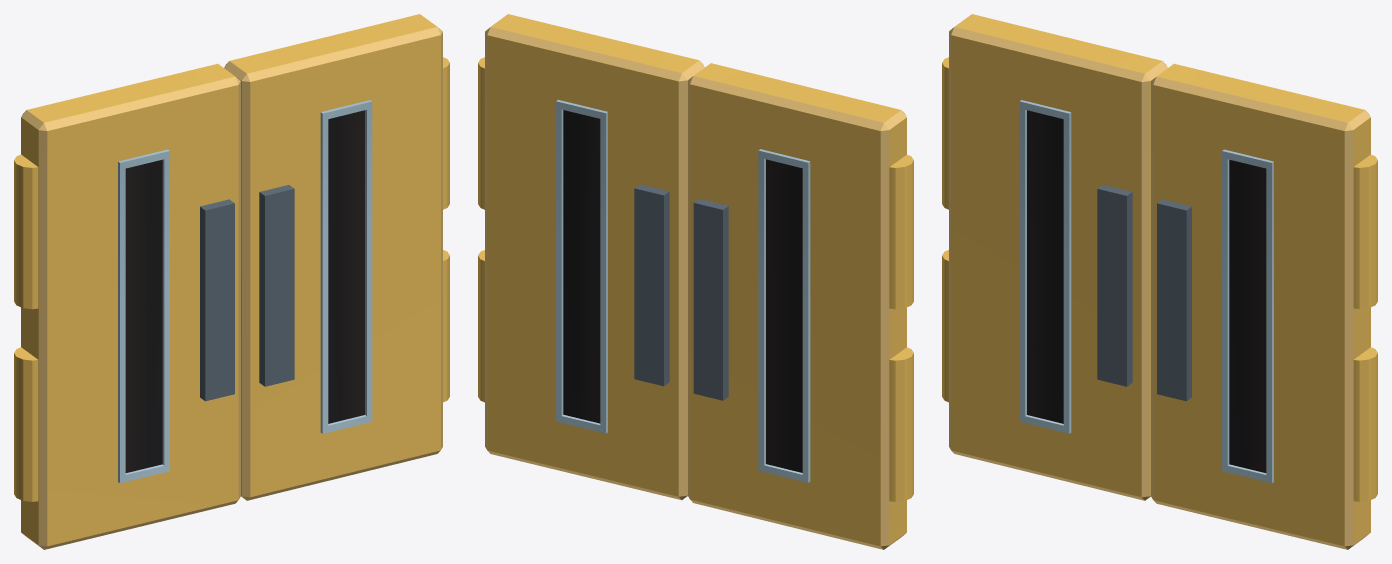
File: Doors.fbx
3 views of the same model, side by side, from view 1: azimuth 30°, elevation 25°; view 2: azimuth 150°, elevation 25°; view 3: azimuth 330°, elevation 25° (orthographic).
Parts seen in each view (by area): view 1: Door2, Door1; view 2: Door2, Door1; view 3: Door1, Door2.
Boxes of the visible parts, x1,y1,x2,y2 form: Door2: [14, 63, 240, 549]; Door1: [224, 14, 449, 500]; Door2: [688, 63, 913, 549]; Door1: [478, 14, 704, 500]; Door1: [1151, 63, 1377, 549]; Door2: [942, 14, 1167, 500].
Bounding box in the file's own units: 1.56 × 1.48 × 0.2213.
